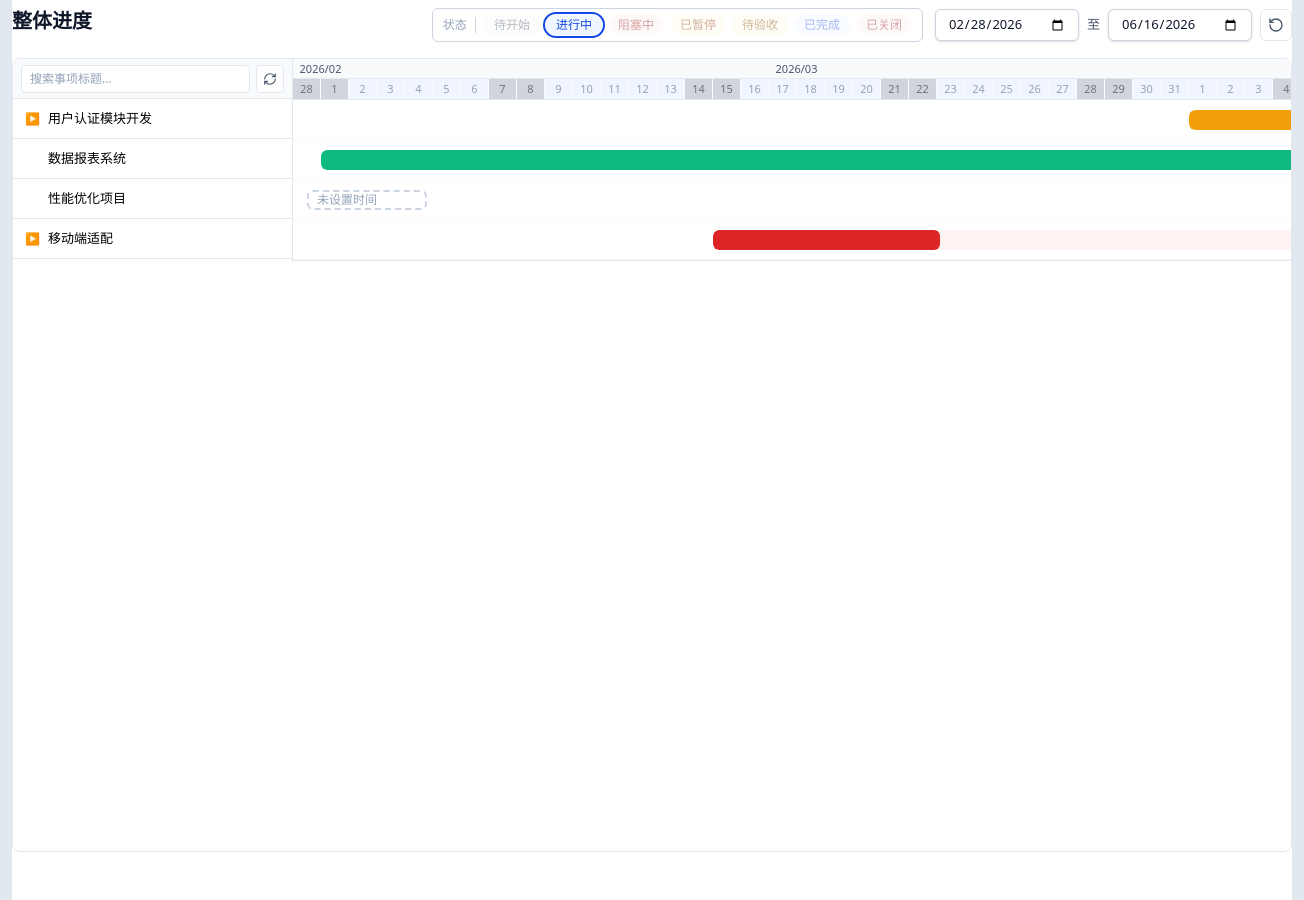
GanttViewPage › filters items by search keyword
The image size is (1304, 900).
Check: the text "用户认证模块开发" is shown, box [48,109,152,127]
Type "认证" into the field with placeholder "搜索事项标题…" at {"x": 136, "y": 78}, box [21,64,250,92]
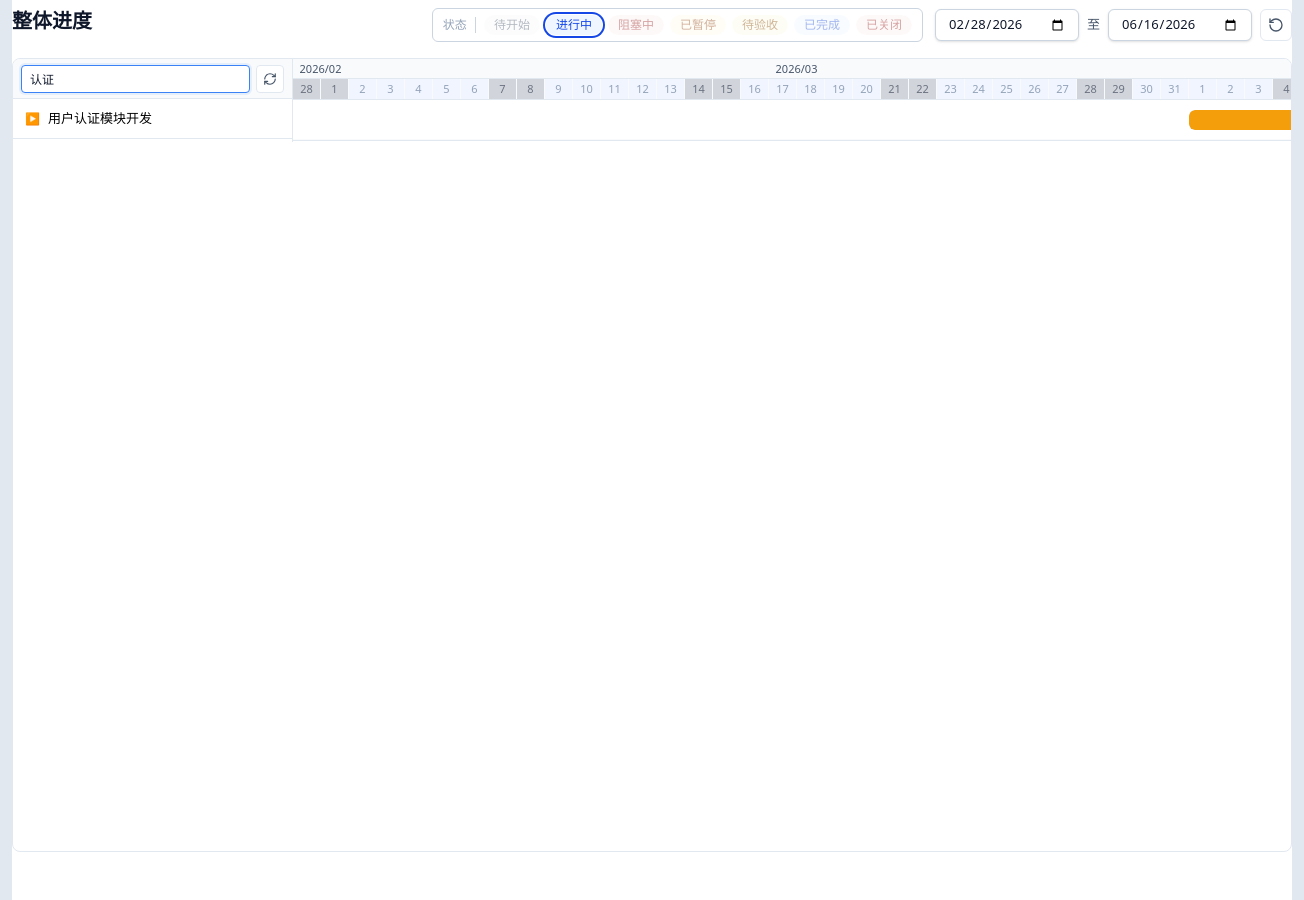
Check: the text "用户认证模块开发" is shown, box [48,109,152,127]
Check: the text "数据报表系统" is gone
